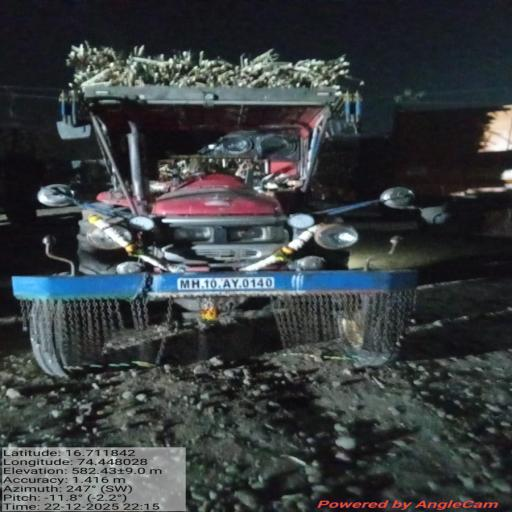number_plate: (173, 273, 287, 297)
